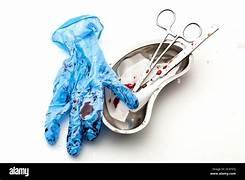Glove: (45, 16, 138, 155)
